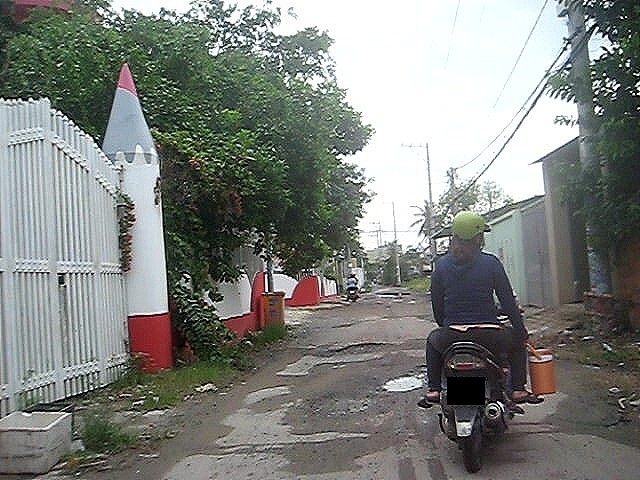hole: (297, 390, 372, 418), (309, 340, 390, 362), (381, 370, 426, 394), (374, 291, 411, 299)
